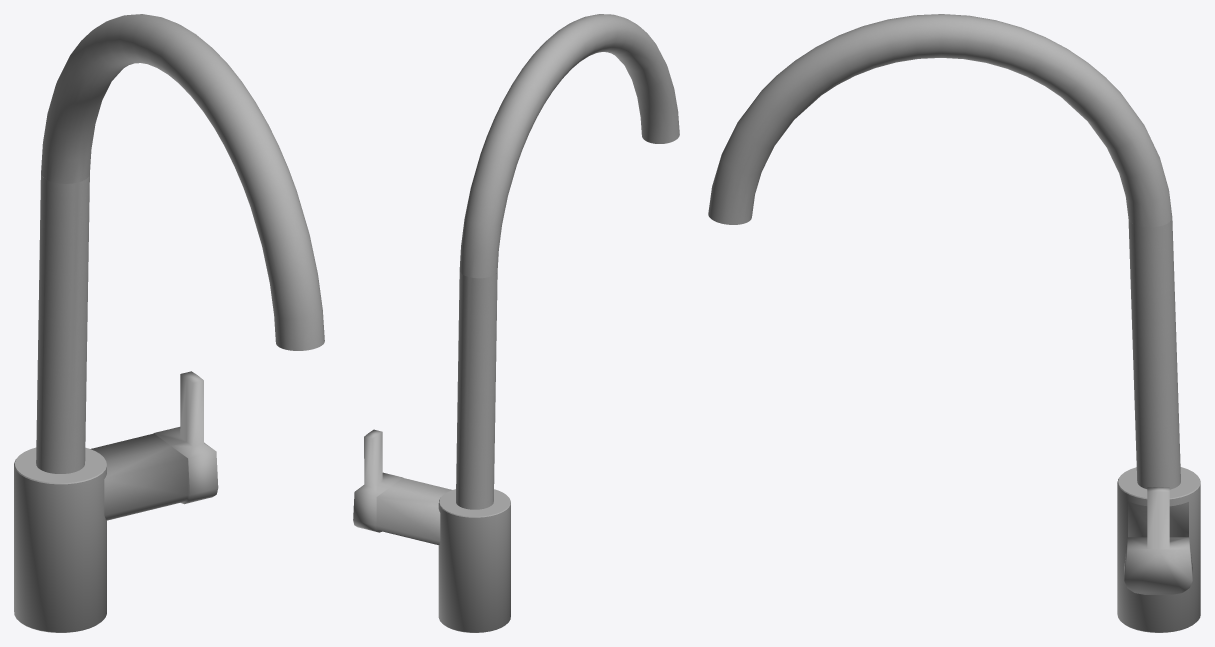
File: 2345_kitchen_faucet_AlignChrome.gltf
3 views of the same model, side by side, from view 1: azimuth 30°, elevation 25°; view 2: azimuth 150°, elevation 25°; view 3: azimuth 270°, elevation 25° (orthographic). The views are drawn at different scales.
Visible parts, largest first — view 1: Align Chrome; view 2: Align Chrome; view 3: Align Chrome.
Part boxes in pixels (x1=…): Align Chrome: x1=14, y1=14, x2=324, y2=632; Align Chrome: x1=353, y1=14, x2=679, y2=632; Align Chrome: x1=708, y1=14, x2=1200, y2=632.
Size of the model in its own units: 0.131 by 0.47 by 0.3497.
Materials: 1 (1 with a texture image).
